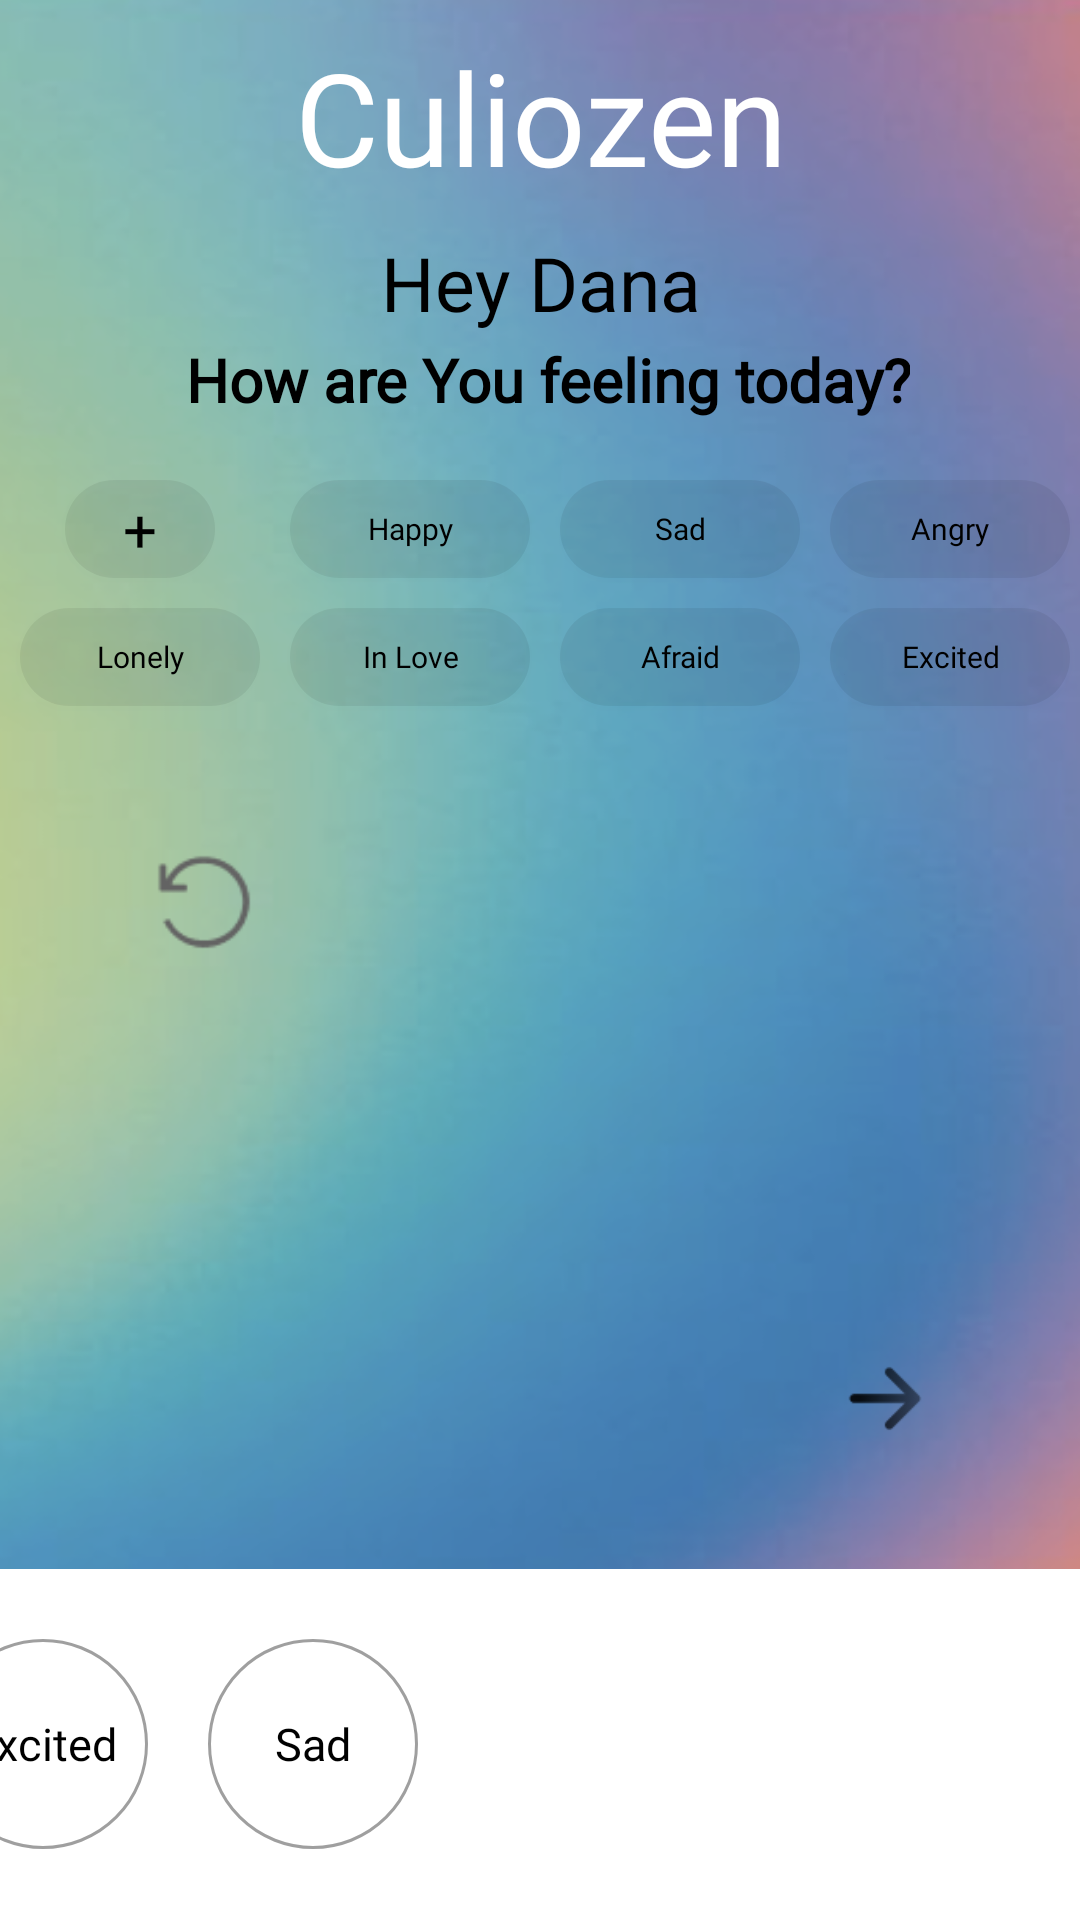

Named icons in this screenshot (1080*1920) and their bounding boxes, (x1, y1, x2, y2):
undo: (144, 842, 251, 962)
